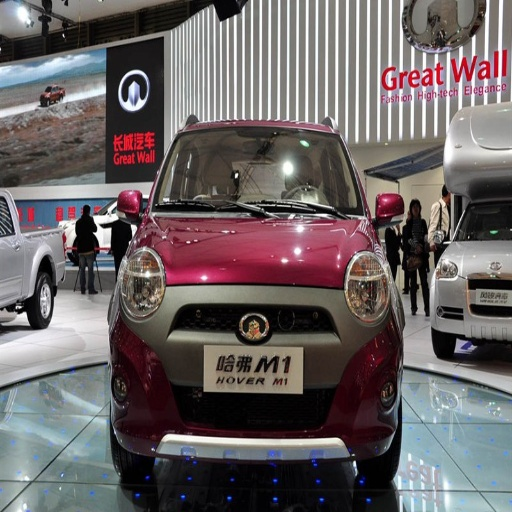front_bumper: (111, 285, 390, 487)
front_right_light: (120, 251, 163, 319)
hood: (138, 212, 379, 287)
